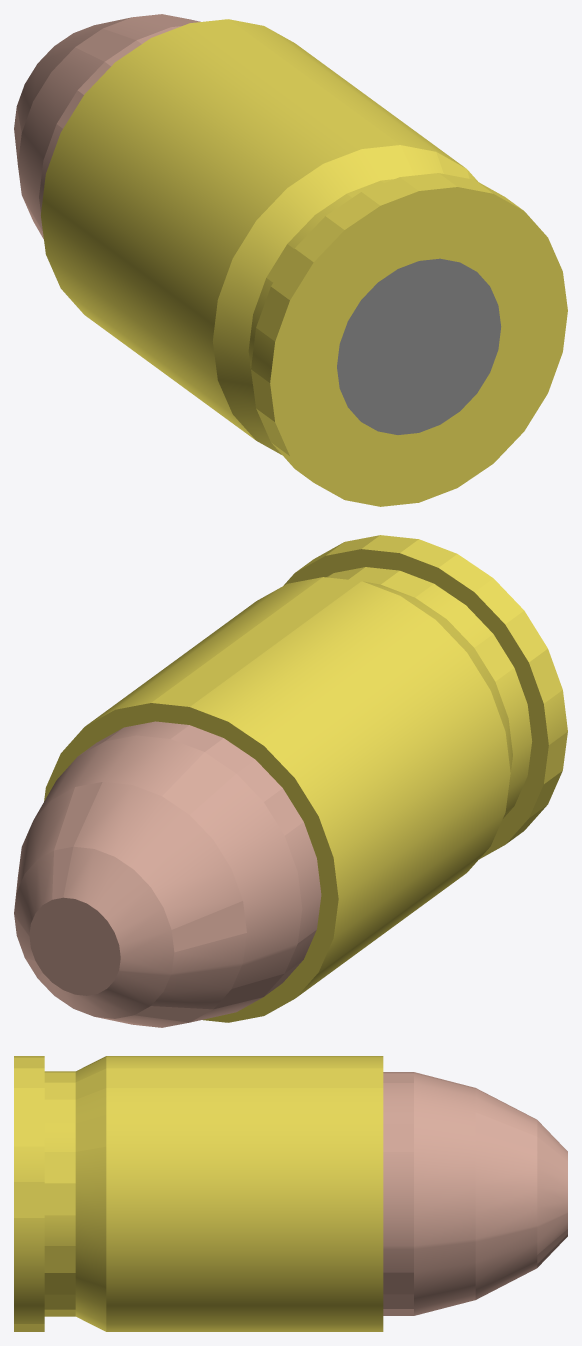
Rendered from ammo_pistol.fbx.
3 renders of one model, top to bottom at view 1: azimuth 30°, elevation 25°; view 2: azimuth 150°, elevation 25°; view 3: azimuth 270°, elevation 25°, orthographic. The views are drawn at different scales.
Visible parts, largest first — view 1: imagetostl_mesh190, imagetostl_mesh41, imagetostl_mesh40, imagetostl_mesh195, imagetostl_mesh42, imagetostl_mesh37, imagetostl_mesh43, imagetostl_mesh79, imagetostl_mesh44, imagetostl_mesh215, imagetostl_mesh109, imagetostl_mesh45 (+44 smaller); view 2: imagetostl_mesh41, imagetostl_mesh40, imagetostl_mesh42, imagetostl_mesh37, imagetostl_mesh43, imagetostl_mesh79, imagetostl_mesh261, imagetostl_mesh44, imagetostl_mesh109, imagetostl_mesh45, imagetostl_mesh106, imagetostl_mesh334 (+66 smaller); view 3: imagetostl_mesh103, imagetostl_mesh104, imagetostl_mesh102, imagetostl_mesh105, imagetostl_mesh101, imagetostl_mesh106, imagetostl_mesh100, imagetostl_mesh109, imagetostl_mesh99, imagetostl_mesh79, imagetostl_mesh98, imagetostl_mesh280 (+65 smaller).
Part boxes in pixels (left/top/right/bottom): imagetostl_mesh190: left=337, top=258, right=501, bottom=434; imagetostl_mesh41: left=61, top=95, right=256, bottom=258; imagetostl_mesh40: left=84, top=62, right=286, bottom=220; imagetostl_mesh195: left=275, top=194, right=523, bottom=341; imagetostl_mesh42: left=46, top=133, right=232, bottom=299; imagetostl_mesh37: left=115, top=38, right=322, bottom=187; imagetostl_mesh43: left=41, top=174, right=217, bottom=340; imagetostl_mesh79: left=151, top=23, right=361, bottom=163; imagetostl_mesh44: left=41, top=216, right=217, bottom=379; imagetostl_mesh215: left=290, top=422, right=523, bottom=482; imagetostl_mesh109: left=190, top=19, right=399, bottom=148; imagetostl_mesh45: left=46, top=255, right=232, bottom=413; imagetostl_mesh41: left=295, top=653, right=490, bottom=815; imagetostl_mesh40: left=264, top=620, right=466, bottom=777; imagetostl_mesh42: left=319, top=691, right=505, bottom=857; imagetostl_mesh37: left=228, top=596, right=435, bottom=745; imagetostl_mesh43: left=333, top=732, right=510, bottom=898; imagetostl_mesh79: left=190, top=581, right=399, bottom=721; imagetostl_mesh261: left=29, top=897, right=120, bottom=995; imagetostl_mesh44: left=333, top=773, right=510, bottom=937; imagetostl_mesh109: left=151, top=577, right=361, bottom=706; imagetostl_mesh45: left=319, top=813, right=504, bottom=971; imagetostl_mesh106: left=116, top=577, right=322, bottom=709; imagetostl_mesh334: left=213, top=802, right=284, bottom=868; imagetostl_mesh103: left=106, top=1182, right=383, bottom=1217; imagetostl_mesh104: left=106, top=1146, right=383, bottom=1181; imagetostl_mesh102: left=106, top=1218, right=383, bottom=1252; imagetostl_mesh105: left=106, top=1114, right=383, bottom=1146; imagetostl_mesh101: left=106, top=1252, right=383, bottom=1282; imagetostl_mesh106: left=106, top=1088, right=383, bottom=1114; imagetostl_mesh100: left=106, top=1283, right=383, bottom=1307; imagetostl_mesh109: left=106, top=1068, right=383, bottom=1087; imagetostl_mesh99: left=106, top=1307, right=383, bottom=1323; imagetostl_mesh79: left=106, top=1057, right=383, bottom=1068; imagetostl_mesh98: left=106, top=1324, right=383, bottom=1331; imagetostl_mesh280: left=414, top=1183, right=475, bottom=1215.
Size of the model in its own units: 0.54 by 0.54 by 1.08.
